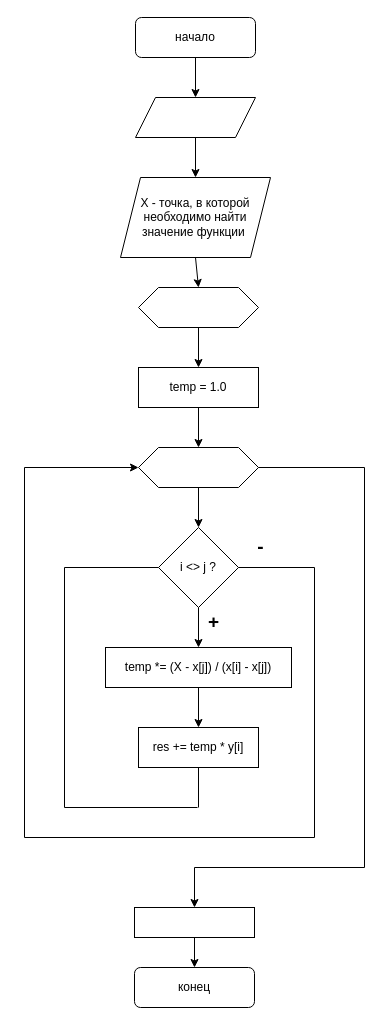
The diagram is 383 pixels wide and 1025 high, and some of its shapes have lost their labels. The centre of each missing label's shape, as x and y in pixels:
i = 0, .. n: pixel 198 307
j = 0, .. n: pixel 198 467
res: pixel 194 922
массив x[n] массив y[n]: pixel 195 117
